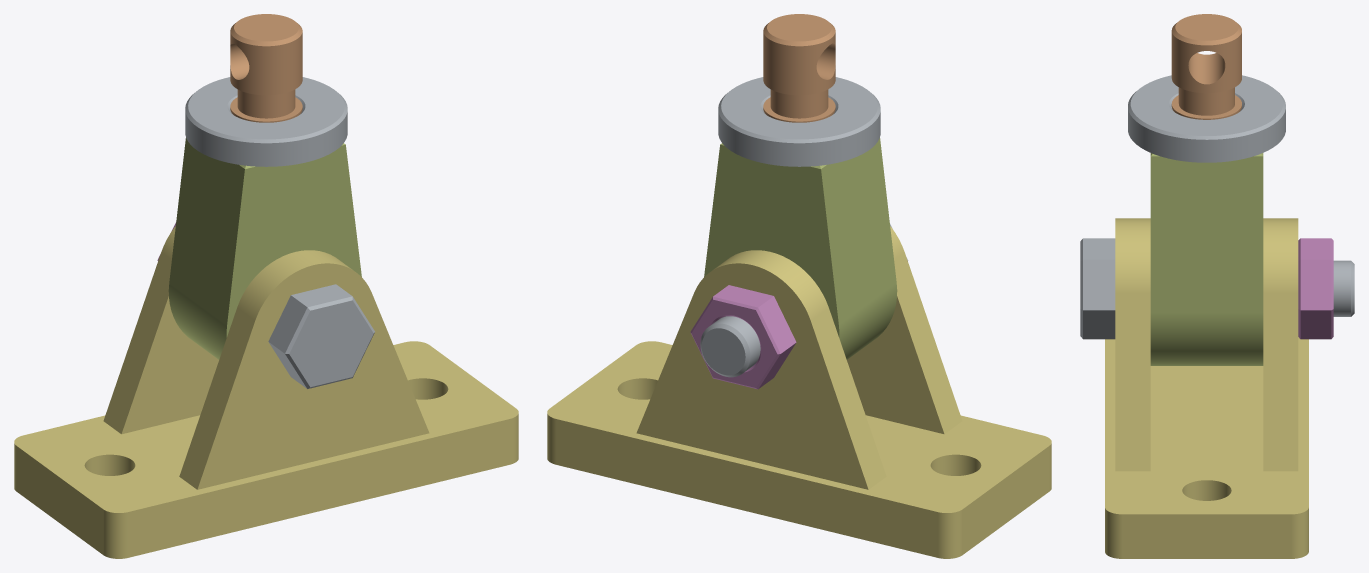
Rendered from step_21.glb.
The picture shows the model from 3 angles, left to right: view 1: azimuth 30°, elevation 25°; view 2: azimuth 150°, elevation 25°; view 3: azimuth 270°, elevation 25°; orthographic projection. The views are drawn at different scales.
Parts seen in each view (by area): view 1: part__base, part__swivel, part__lock nut M20 x 2.5, part__bolt M16 x 2.0 x 68, part__screw M20 x 2.5 x 56; view 2: part__base, part__swivel, part__lock nut M20 x 2.5, part__screw M20 x 2.5 x 56, part__standard nut M16 x 2.0, part__bolt M16 x 2.0 x 68; view 3: part__base, part__swivel, part__lock nut M20 x 2.5, part__screw M20 x 2.5 x 56, part__bolt M16 x 2.0 x 68, part__standard nut M16 x 2.0.
Part boxes in pixels (left/top/right/bottom): part__base: left=14, top=226, right=518, bottom=558; part__swivel: left=168, top=138, right=361, bottom=359; part__lock nut M20 x 2.5: left=185, top=77, right=347, bottom=166; part__bolt M16 x 2.0 x 68: left=268, top=284, right=374, bottom=388; part__screw M20 x 2.5 x 56: left=230, top=14, right=302, bottom=122; part__base: left=547, top=226, right=1051, bottom=558; part__swivel: left=704, top=138, right=897, bottom=359; part__lock nut M20 x 2.5: left=718, top=77, right=880, bottom=166; part__screw M20 x 2.5 x 56: left=763, top=14, right=835, bottom=122; part__standard nut M16 x 2.0: left=690, top=285, right=796, bottom=389; part__bolt M16 x 2.0 x 68: left=700, top=224, right=907, bottom=377; part__base: left=1105, top=218, right=1308, bottom=558; part__swivel: left=1150, top=153, right=1263, bottom=365; part__lock nut M20 x 2.5: left=1128, top=75, right=1285, bottom=162; part__screw M20 x 2.5 x 56: left=1171, top=14, right=1241, bottom=119; part__bolt M16 x 2.0 x 68: left=1080, top=238, right=1354, bottom=339; part__standard nut M16 x 2.0: left=1298, top=238, right=1333, bottom=339.
Size of the model in its own units: 132 by 136 by 78.
